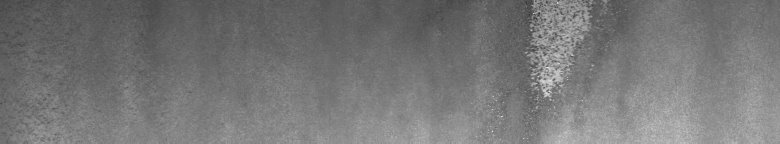hc: (525, 4, 584, 100)
